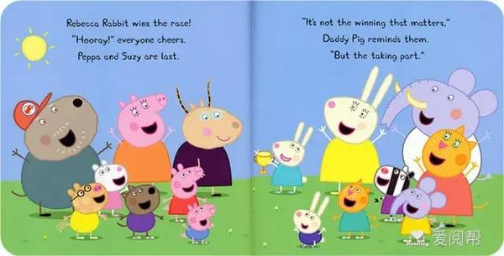Peppa: (163, 162, 206, 224)
